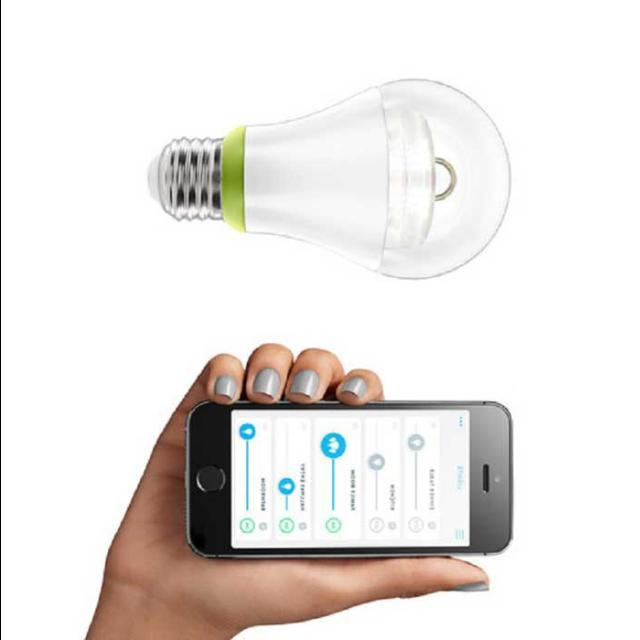light_bulb: (140, 67, 526, 293)
